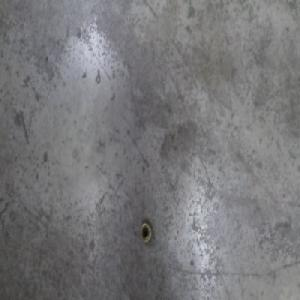Nut: (138, 219, 152, 245)
